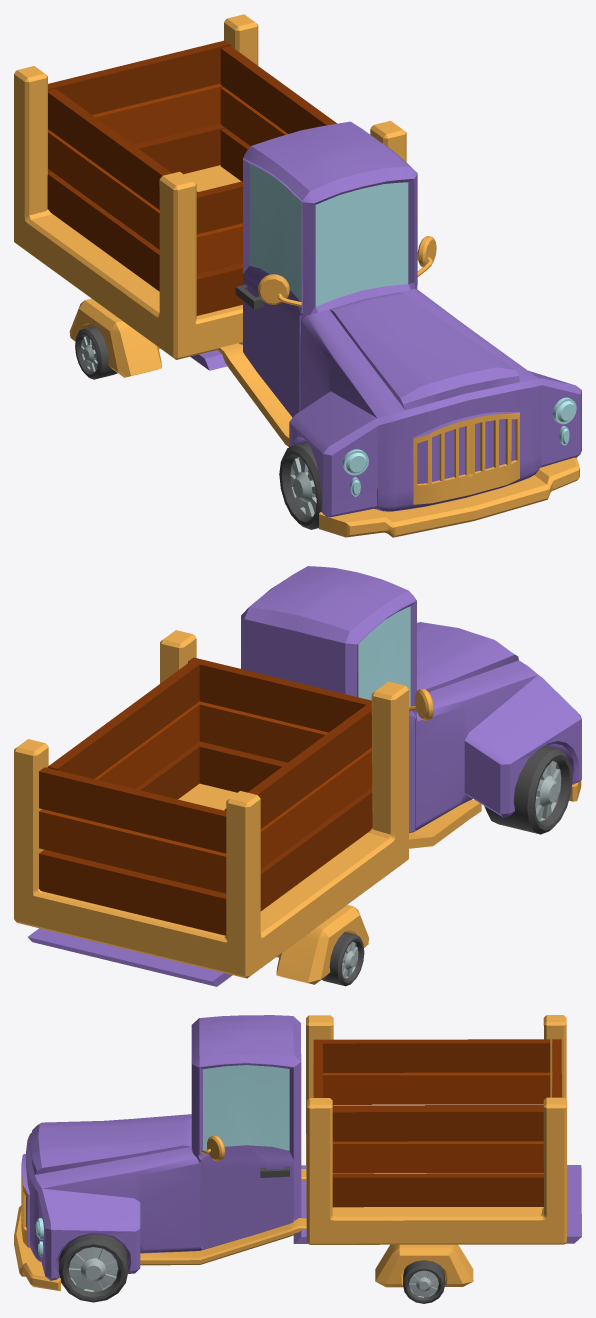
Rendered from wood_truck.fbx.
3 renders of one model, top to bottom at view 1: azimuth 30°, elevation 25°; view 2: azimuth 150°, elevation 25°; view 3: azimuth 270°, elevation 25°, orthographic. The views are drawn at different scales.
Visible parts, largest first — view 1: wood_truck; view 2: wood_truck; view 3: wood_truck.
Part boxes in pixels (<box>): wood_truck: <box>14,14,581,537</box>; wood_truck: <box>14,566,581,986</box>; wood_truck: <box>14,1015,581,1303</box>.
Bounding box in the file's own units: 62.05 × 62.68 × 144.
